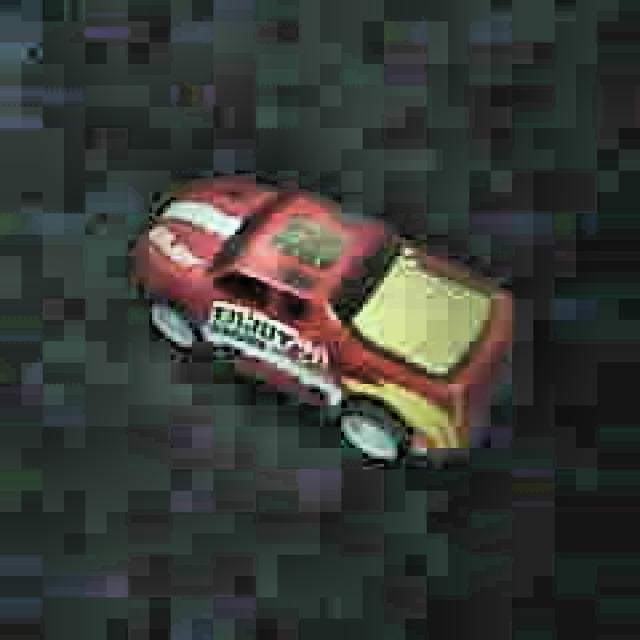car: (129, 166, 522, 481)
